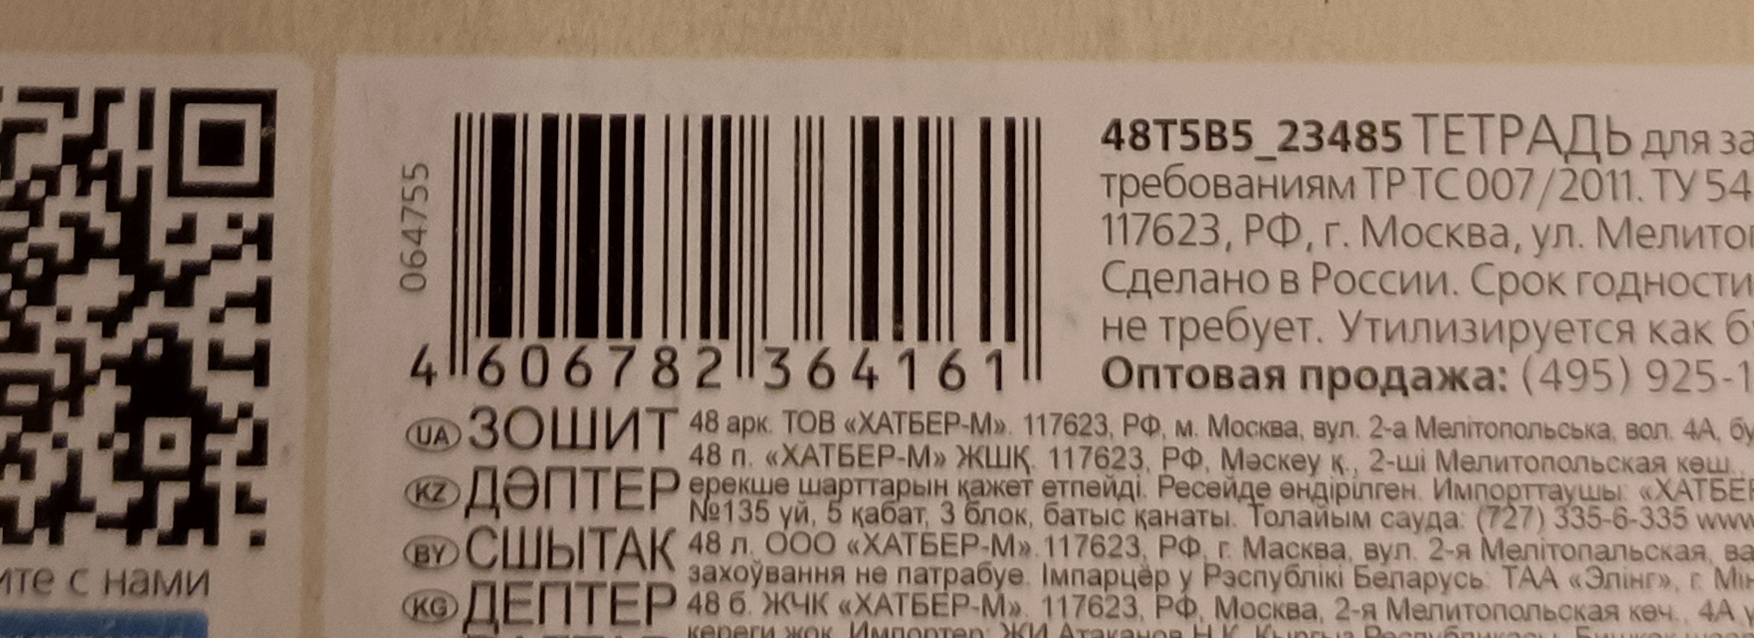1d: (447, 116, 1048, 341)
